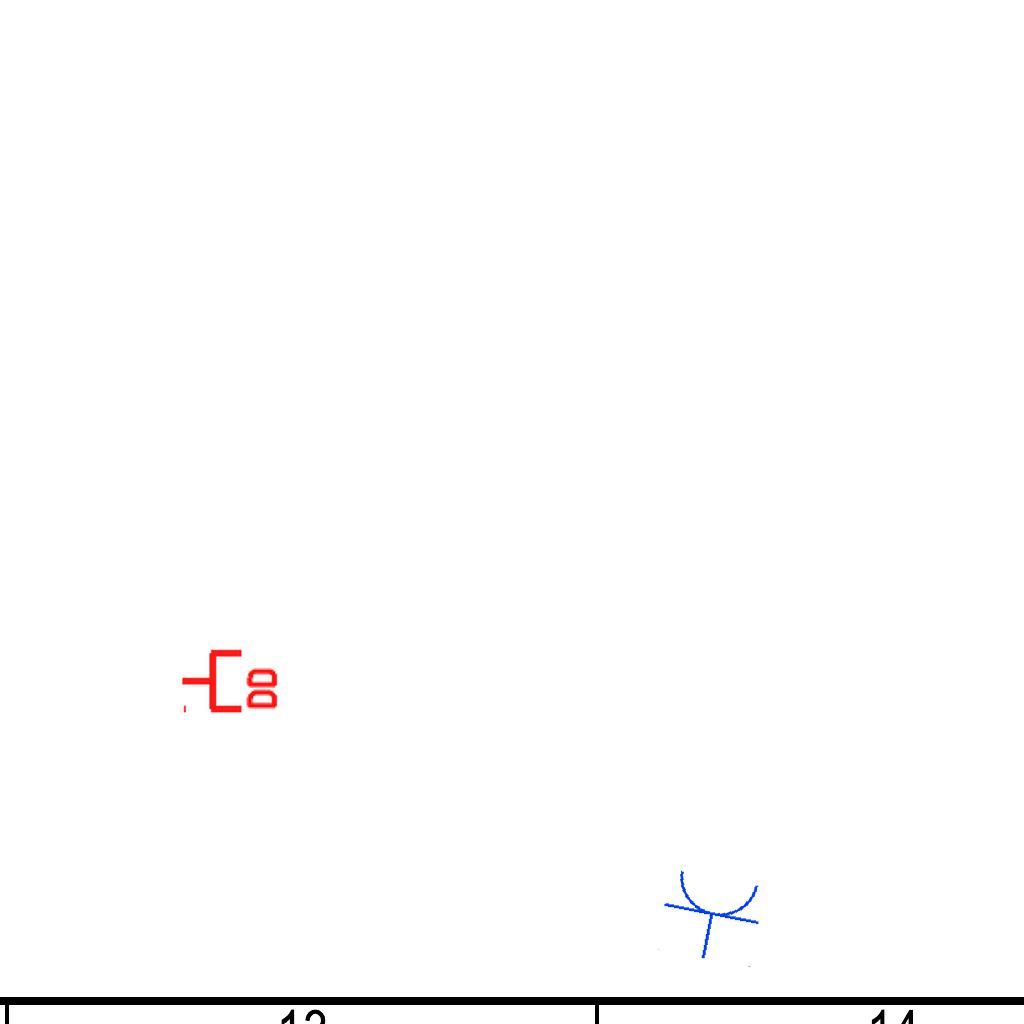Datenanschluss_zweifach: (179, 645, 282, 714)
Schukosteckdose_einfach: (654, 864, 770, 969)
